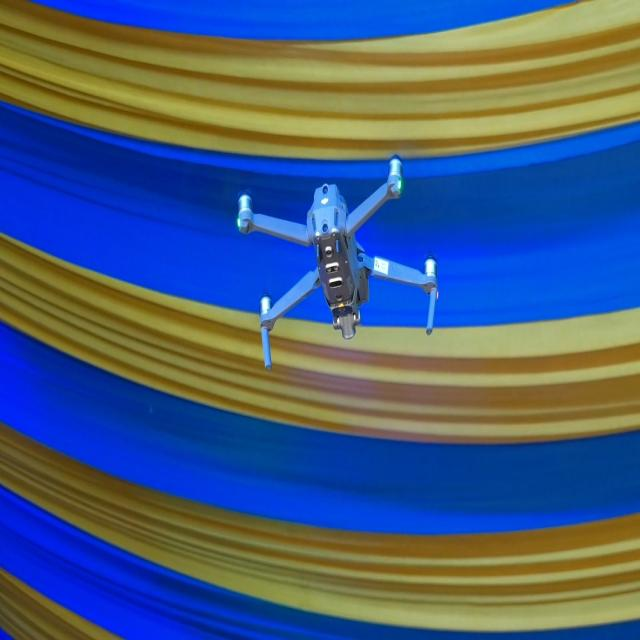Drone: (237, 164, 433, 371)
